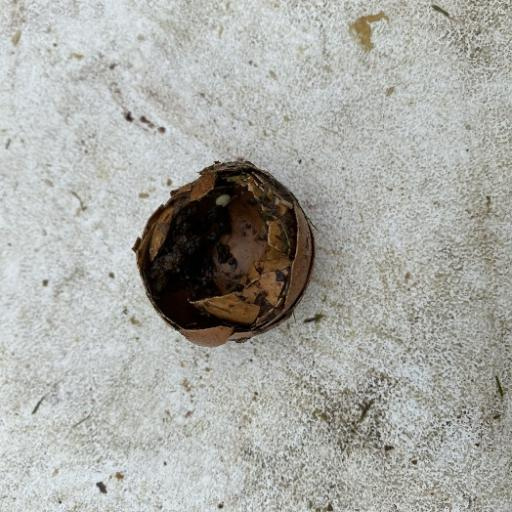Waste: (131, 157, 317, 348)
